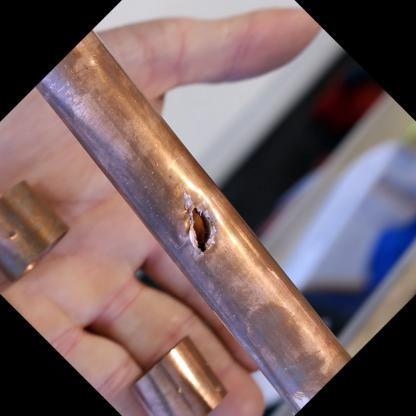burst: (178, 190, 228, 264)
